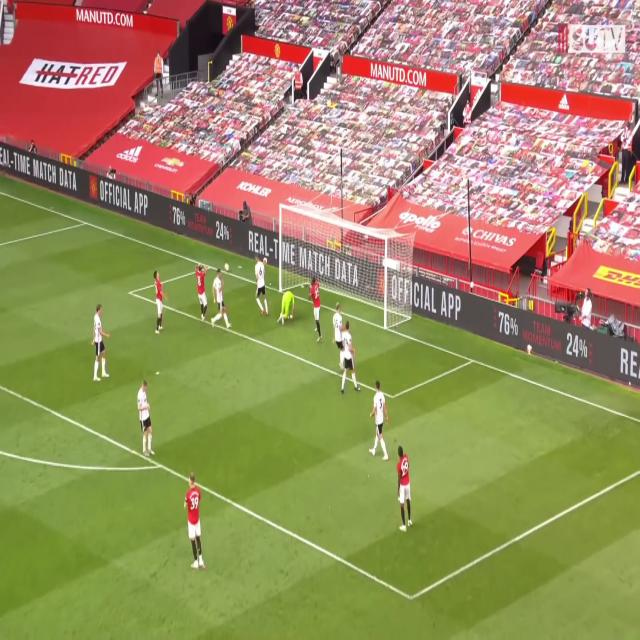Ball: (224, 263, 229, 273), (264, 256, 268, 266)
GoalKeeper: (276, 290, 296, 325)
TEAM 1: (186, 473, 206, 572), (398, 447, 412, 532), (309, 275, 324, 339), (194, 263, 209, 321), (154, 273, 166, 335)
TEAM 2: (369, 380, 391, 460), (90, 306, 112, 382), (337, 329, 361, 397), (136, 380, 152, 458), (210, 268, 230, 328), (253, 255, 269, 316), (332, 306, 348, 344)
